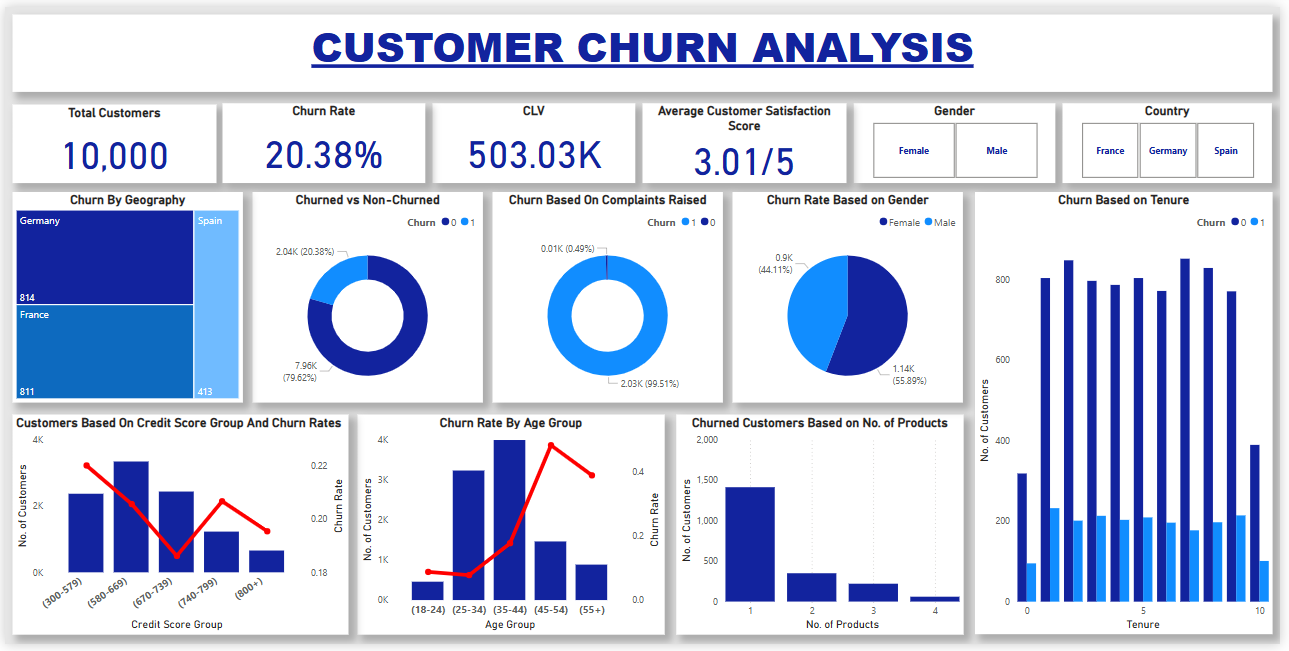

This screenshot's page, from the dashboard's own definition file:
{"tool":"powerbi","page":{"name":"Final Dashboard","canvas":[1700,850],"ordinal":0},"visuals":[{"type":"textbox","box":[10,10,1680,103.3],"z":0},{"type":"slicer","title":"Gender","fields":{"Values":["Customer-Churn-Records.Gender"]},"box":[1131.7,128.2,268.7,106.6],"z":2000},{"type":"slicer","title":"Country","fields":{"Values":["Customer-Churn-Records.Geography"]},"box":[1410,128.2,279.5,106.6],"z":3000},{"type":"card","title":"CLV","fields":{"Values":["Customer-Churn-Records.CLV"]},"box":[570.5,128.2,270.3,106.6],"z":5000},{"type":"card","title":"Total Customers","fields":{"Values":["CountNonNull(Customer-Churn-Records.CustomerId)"]},"box":[9.3,129.7,271.8,105],"z":6000},{"type":"card","title":"Churn Rate","fields":{"Values":["Customer-Churn-Records.Churn Rate"]},"box":[290.6,128.2,270.3,106.6],"z":7000},{"type":"card","title":"Average Customer Satisfaction Score","fields":{"Values":["Customer-Churn-Records.AvgSatisfaction"]},"box":[850.3,128.2,271.8,106.6],"z":8000},{"type":"donutChart","title":"Churned vs Non-Churned","fields":{"Category":["Customer-Churn-Records.Exited"],"Y":["CountNonNull(Customer-Churn-Records.CustomerId)"]},"box":[329.5,247.1,307.3,281.1],"z":9000},{"type":"treemap","title":"Churn By Geography","fields":{"Group":["Customer-Churn-Records.Geography"],"Values":["Sum(Customer-Churn-Records.Exited)"]},"box":[9.3,247.1,307.3,281.1],"z":10000},{"type":"donutChart","title":"Churn Based On Complaints Raised","fields":{"Category":["Customer-Churn-Records.Exited"],"Y":["CountNonNull(Customer-Churn-Records.CustomerId)"]},"box":[649.7,247.1,307.3,281.1],"z":11000},{"type":"lineStackedColumnComboChart","title":"Churn Rate By Age Group","fields":{"Category":["Customer-Churn-Records.Age Group"],"Y":["CountNonNull(Customer-Churn-Records.CustomerId)"],"Y2":["Customer-Churn-Records.Churn Rate"]},"box":[469.5,543.6,409.2,293.4],"z":12000},{"type":"lineStackedColumnComboChart","title":"Customers Based On Credit Score Group And Churn Rates","fields":{"Category":["Customer-Churn-Records.Credit Score Group"],"Y":["CountNonNull(Customer-Churn-Records.CustomerId)"],"Y2":["Customer-Churn-Records.Churn Rate"]},"box":[9.3,543.6,447.9,293.4],"z":13000},{"type":"clusteredColumnChart","title":"Churned Customers Based on No. of Products","fields":{"Category":["Customer-Churn-Records.NumOfProducts"],"Y":["CountNonNull(Customer-Churn-Records.CustomerId)"]},"box":[894.2,543.6,383,293.4],"z":14000},{"type":"pieChart","title":"Churn Rate Based on Gender","fields":{"Category":["Customer-Churn-Records.Gender"],"Y":["CountNonNull(Customer-Churn-Records.CustomerId)"]},"box":[969.8,247.1,307.3,281.1],"z":15000},{"type":"clusteredColumnChart","title":"Churn Based on Tenure","fields":{"Y":["CountNonNull(Customer-Churn-Records.CustomerId)"],"Category":["Customer-Churn-Records.Tenure"],"Series":["Customer-Churn-Records.Exited"]},"box":[1292.6,247.1,396.9,589.9],"z":16000}]}

Visuals, with their boxes in screenshot pixels (x1, y1, x2, y2), scaled from the page's 1700x850 canvas onto the 1289x651 screenshot:
textbox: Rect(8, 8, 1281, 87)
"Gender" slicer: Rect(858, 98, 1062, 180)
"Country" slicer: Rect(1069, 98, 1281, 180)
"CLV" card: Rect(433, 98, 638, 180)
"Total Customers" card: Rect(7, 99, 213, 180)
"Churn Rate" card: Rect(220, 98, 425, 180)
"Average Customer Satisfaction Score" card: Rect(645, 98, 851, 180)
"Churned vs Non-Churned" donutChart: Rect(250, 189, 483, 405)
"Churn By Geography" treemap: Rect(7, 189, 240, 405)
"Churn Based On Complaints Raised" donutChart: Rect(493, 189, 726, 405)
"Churn Rate By Age Group" lineStackedColumnComboChart: Rect(356, 416, 666, 641)
"Customers Based On Credit Score Group And Churn Rates" lineStackedColumnComboChart: Rect(7, 416, 347, 641)
"Churned Customers Based on No. of Products" clusteredColumnChart: Rect(678, 416, 968, 641)
"Churn Rate Based on Gender" pieChart: Rect(735, 189, 968, 405)
"Churn Based on Tenure" clusteredColumnChart: Rect(980, 189, 1281, 641)
